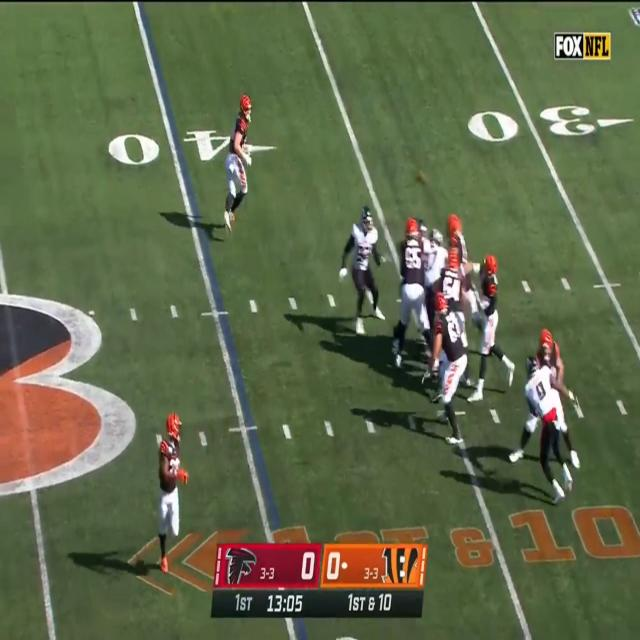Ball: (414, 168, 430, 188)
